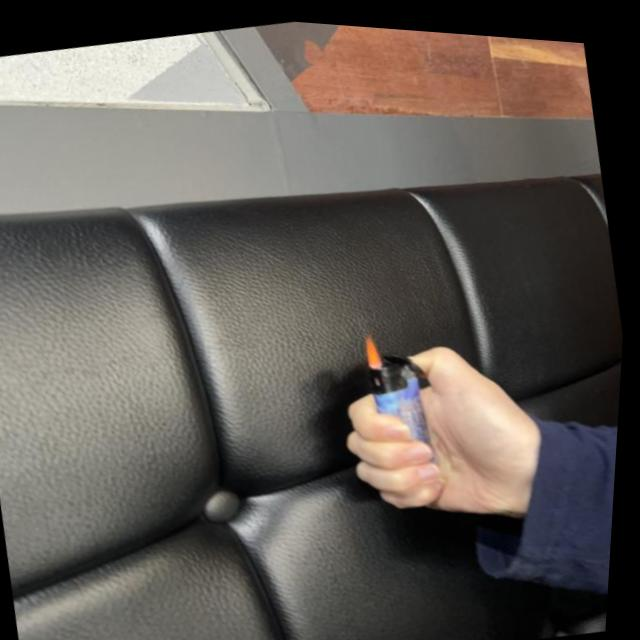Fire: (363, 328, 390, 368)
